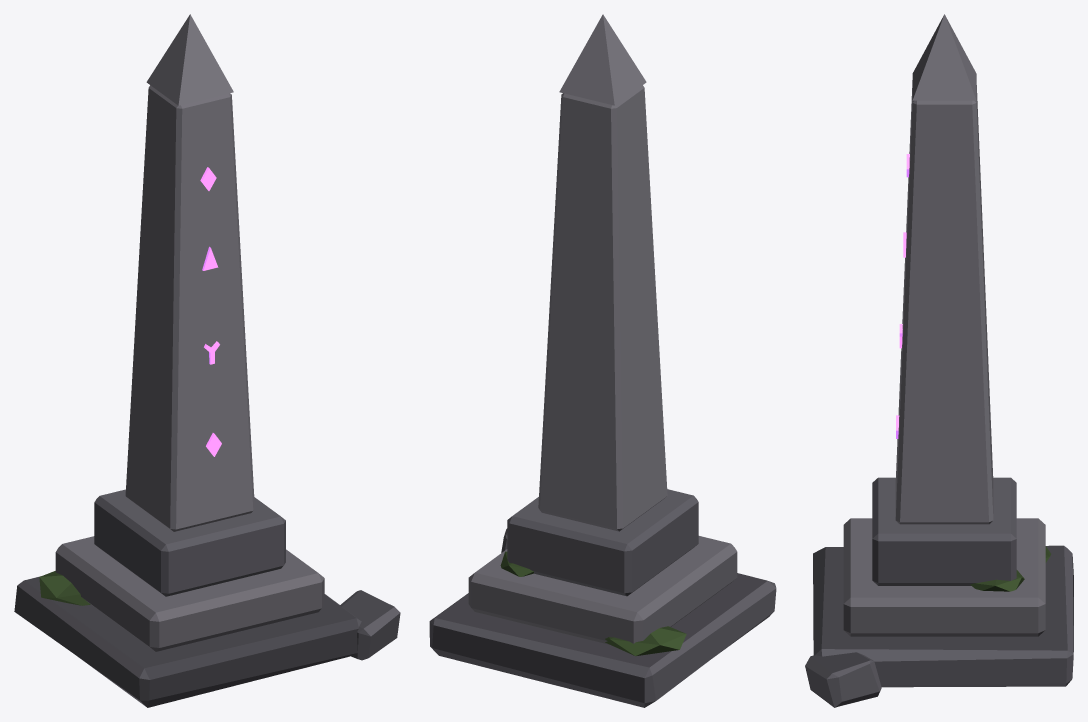
Rendered from obelisk.glb.
The picture shows the model from 3 angles, left to right: view 1: azimuth 30°, elevation 25°; view 2: azimuth 150°, elevation 25°; view 3: azimuth 270°, elevation 25°; orthographic projection.
Parts seen in each view (by area): view 1: Obelisk; view 2: Obelisk; view 3: Obelisk.
Boxes of the visible parts, bbox=[...] form: Obelisk: bbox=[14, 14, 400, 707]; Obelisk: bbox=[429, 14, 776, 707]; Obelisk: bbox=[805, 14, 1073, 707].
Size of the model in its own units: 1.06 by 2.4 by 0.9322.
